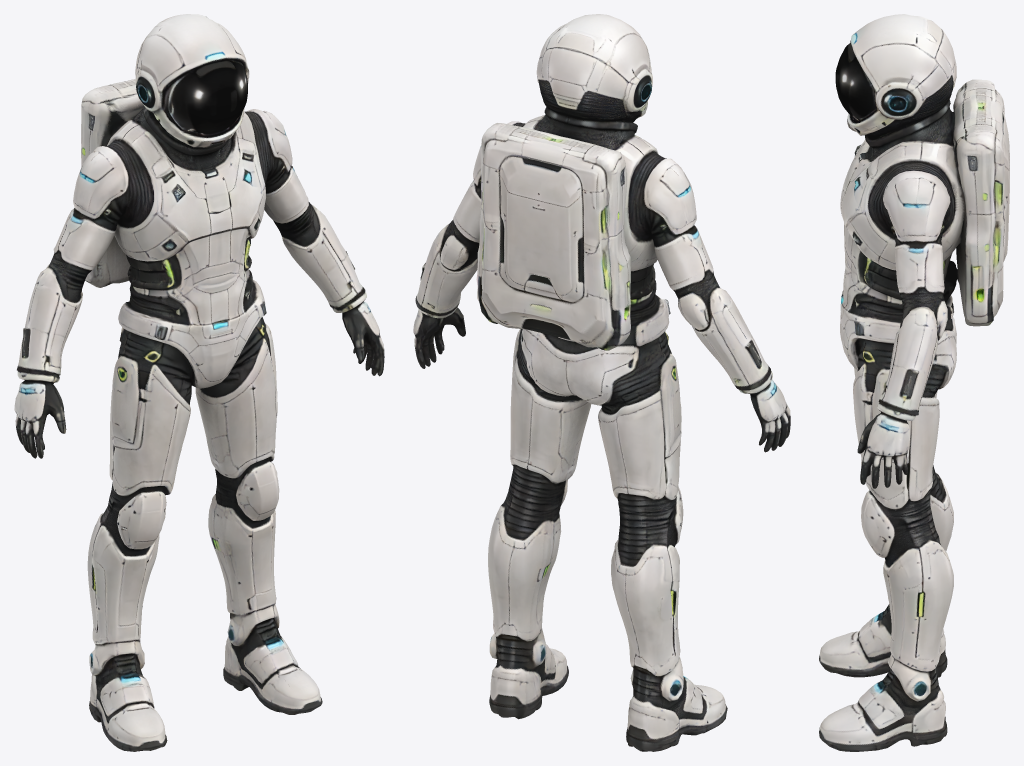
Rendered from base_basic_shaded.glb.
3 renders of one model, left to right at view 1: azimuth 30°, elevation 25°; view 2: azimuth 150°, elevation 25°; view 3: azimuth 270°, elevation 25°, orthographic. The views are drawn at different scales.
Visible parts, largest first — view 1: model; view 2: model; view 3: model.
Part boxes in pixels (x1,y1,x2,y2): model: [14, 14, 384, 751]; model: [413, 14, 790, 751]; model: [819, 14, 1009, 751].
Size of the model in its own units: 1.03 by 1.9 by 0.4791.
1 material, 1 textured.
